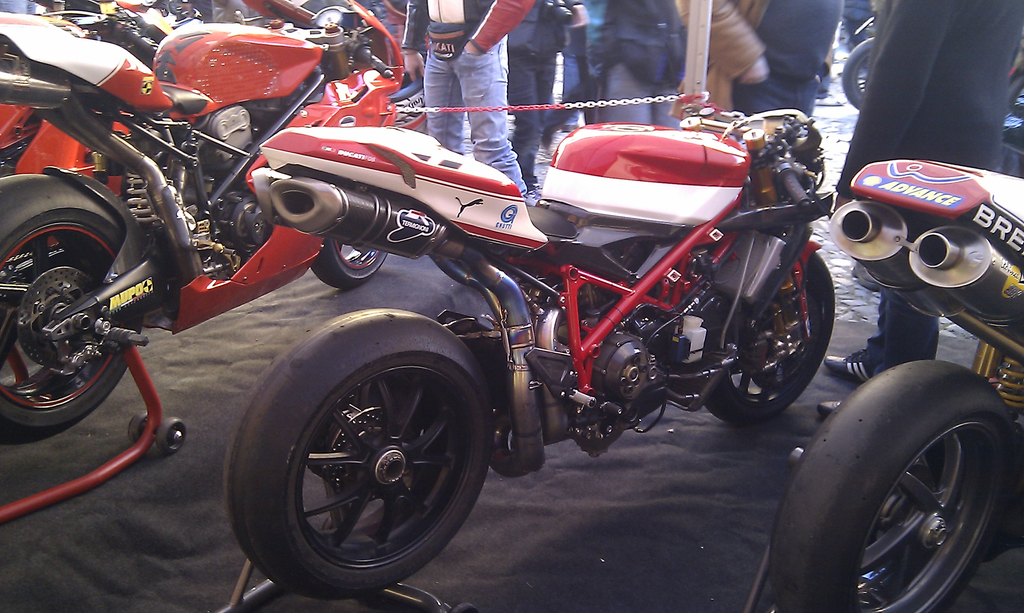Motorcycle: (188, 60, 811, 561), (1, 0, 406, 432), (762, 159, 1023, 609)
